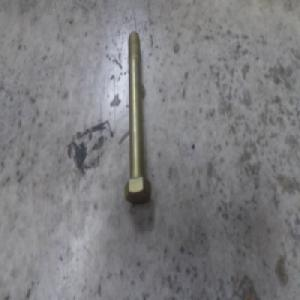Bolt: (125, 33, 150, 201)
